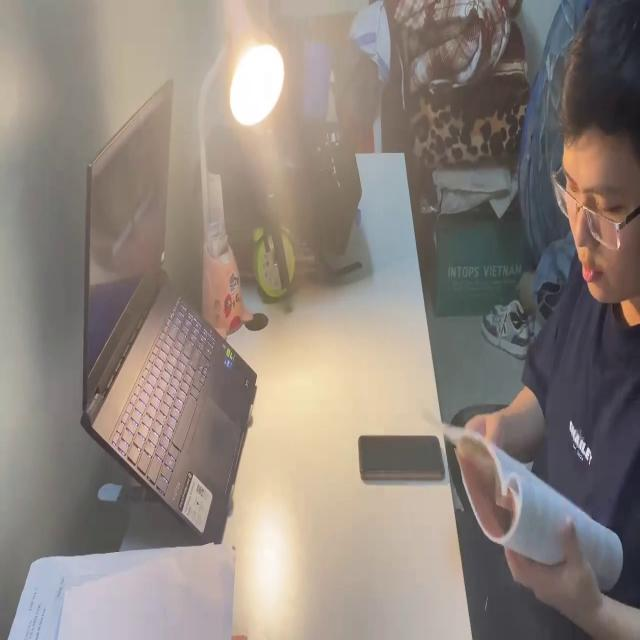book: (429, 388, 624, 606), (7, 533, 235, 640)
laptop: (70, 66, 264, 541)
phone: (354, 424, 447, 492)
student: (444, 0, 640, 640)
